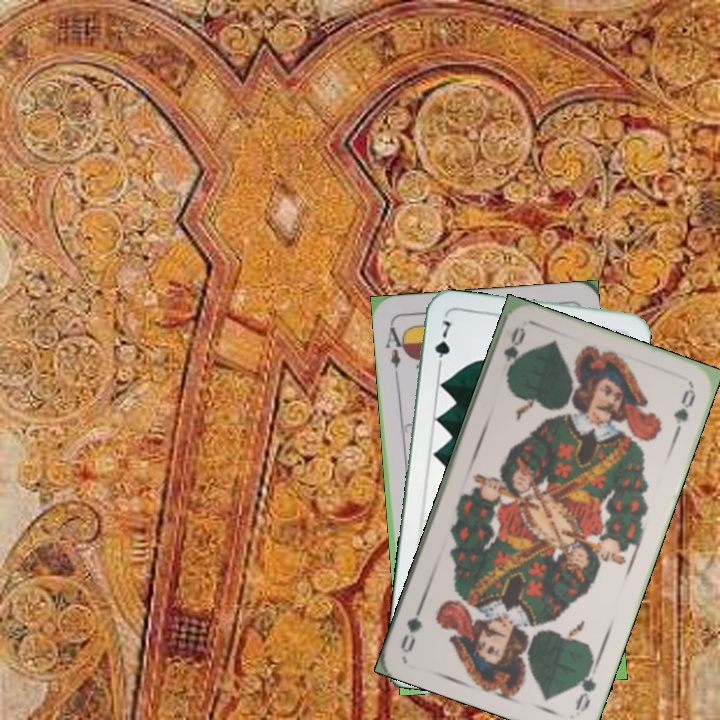EA: (382, 320, 409, 379)
G7: (430, 316, 454, 373)
GO: (499, 323, 529, 383), (571, 659, 601, 715)
